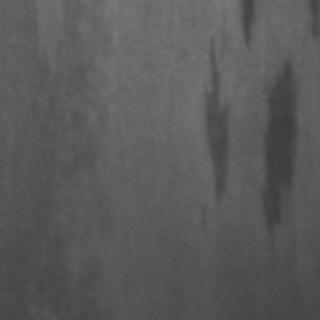inclusion: (256, 52, 302, 240), (192, 31, 230, 208), (233, 0, 260, 46)
